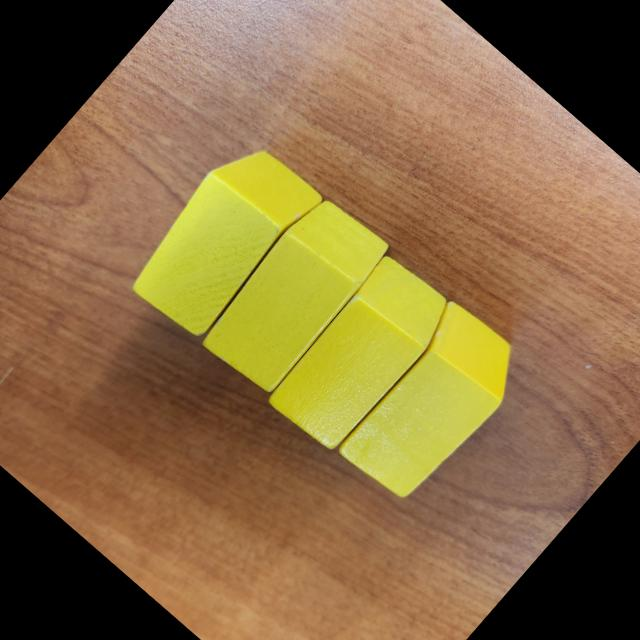yellow: (323, 294, 535, 514), (115, 130, 326, 350), (258, 249, 462, 462), (194, 188, 396, 400)
